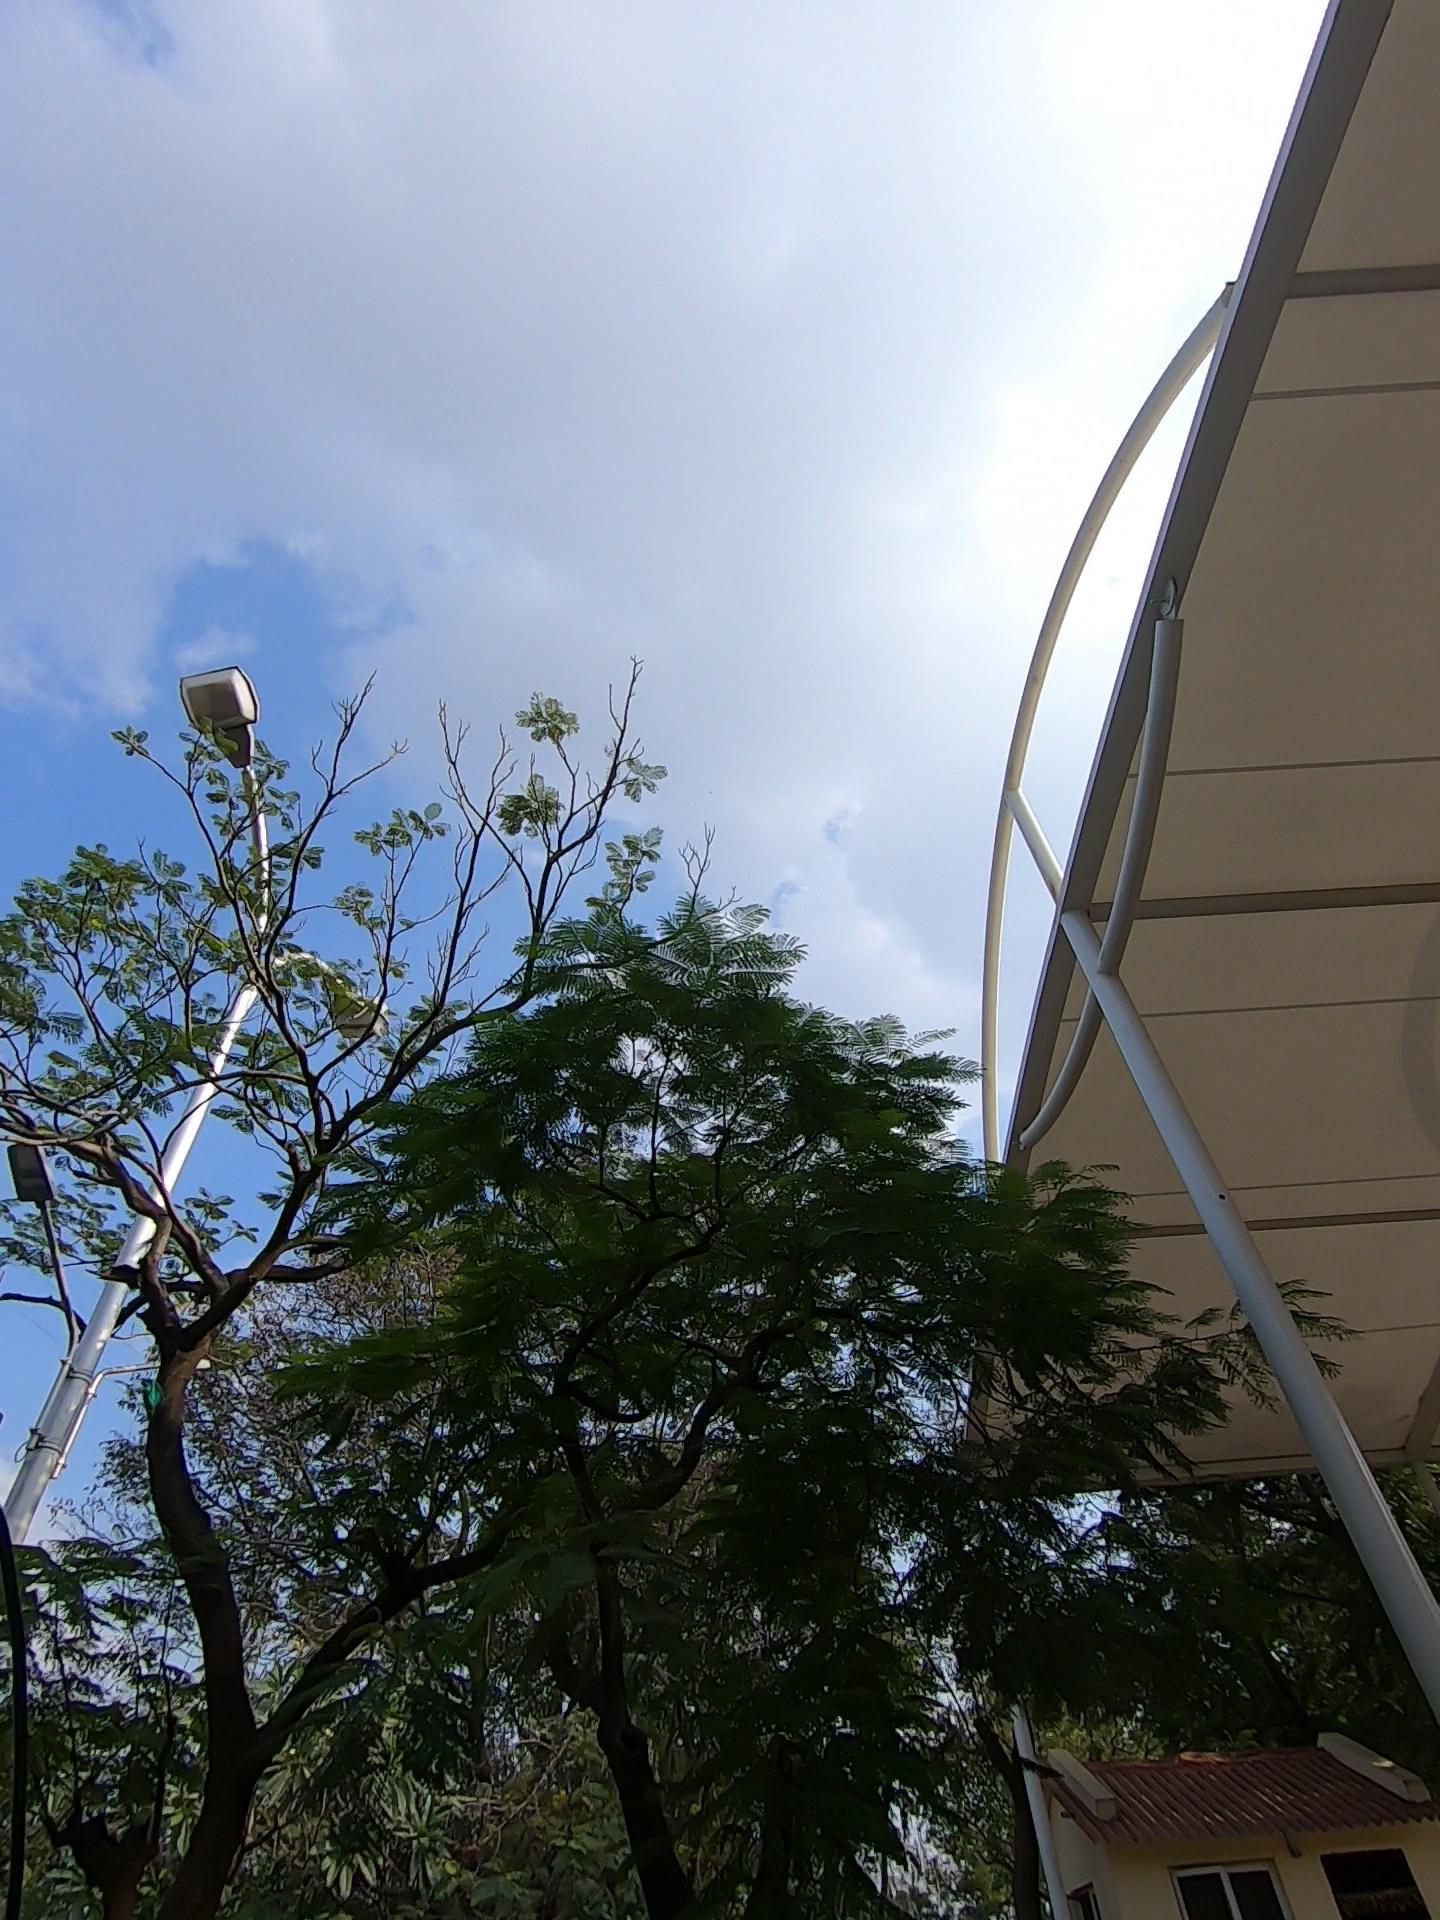off: (104, 611, 375, 1075)
